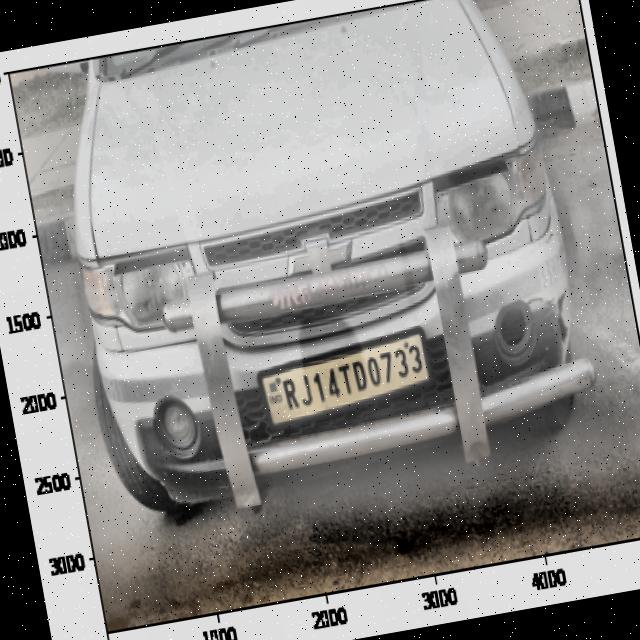license_plate: (272, 334, 431, 418)
